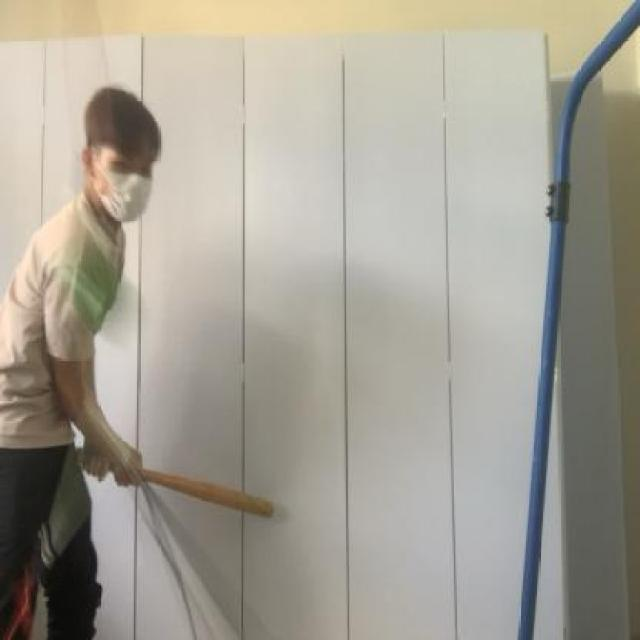baseball: (38, 228, 153, 357)
